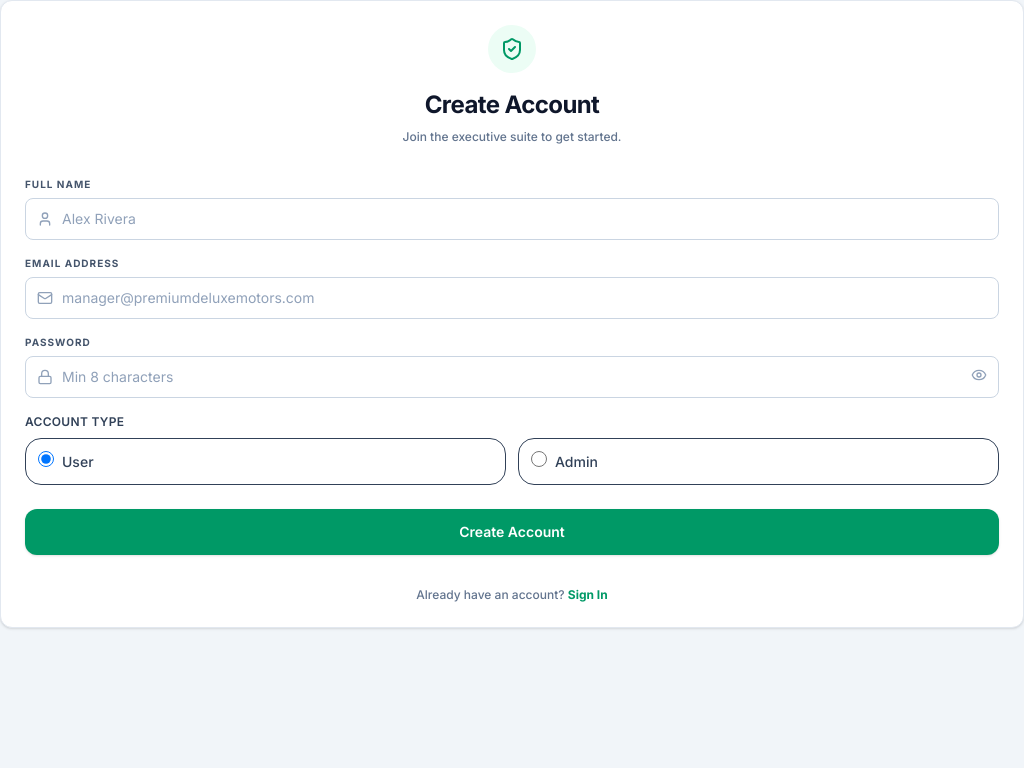
RegisterPage › shows an invalid email validation error
Type "Alice Johnson" into the field labelled "FULL NAME" at point(512, 219), box top-left (25, 198), bottom-right (999, 240)
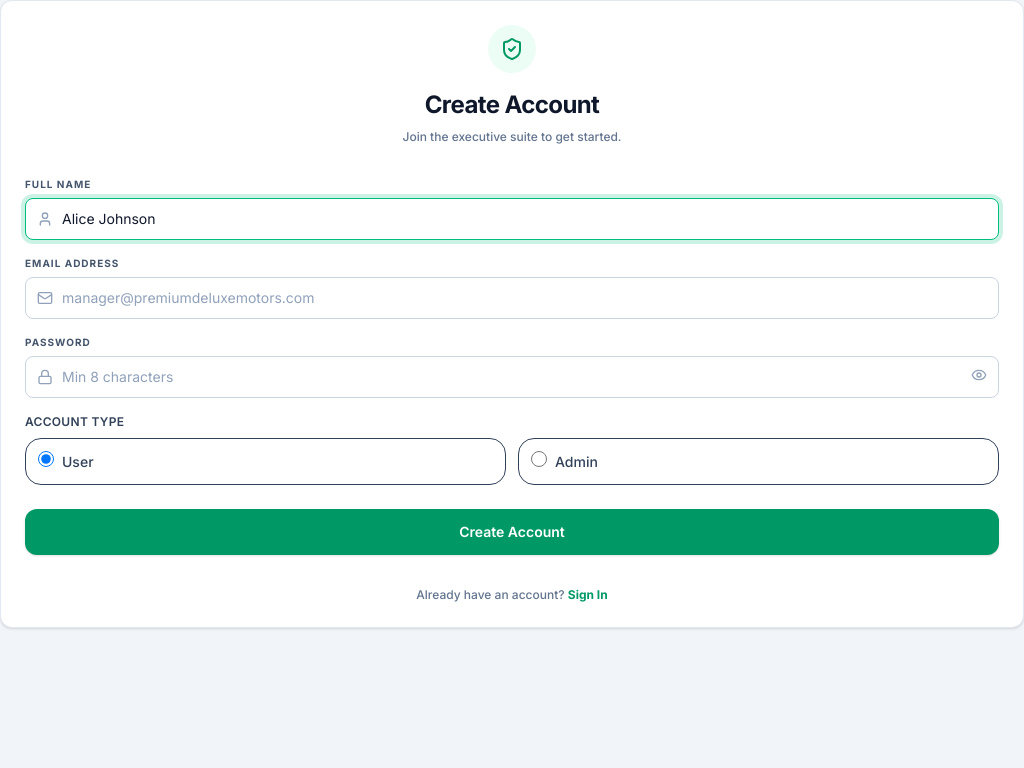
Type "not-an-email" into the field labelled "EMAIL ADDRESS" at point(512, 298), box top-left (25, 277), bottom-right (999, 319)
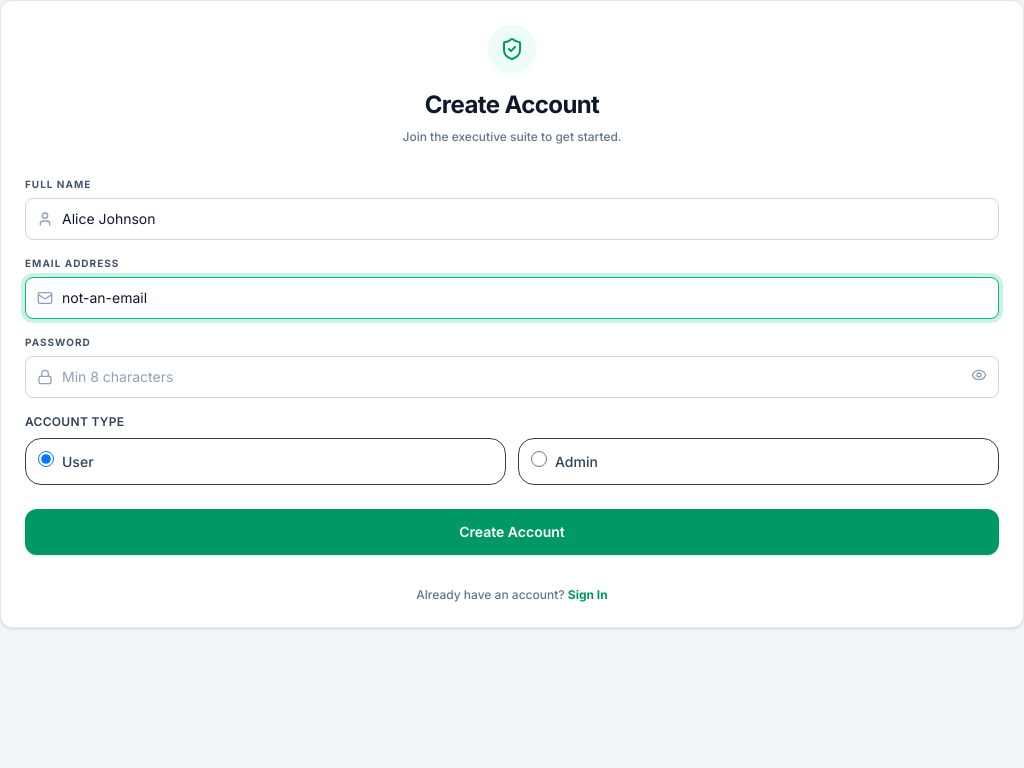
Type "strongpassword" into the password field labelled "PASSWORD" at point(512, 377), box top-left (25, 356), bottom-right (999, 398)
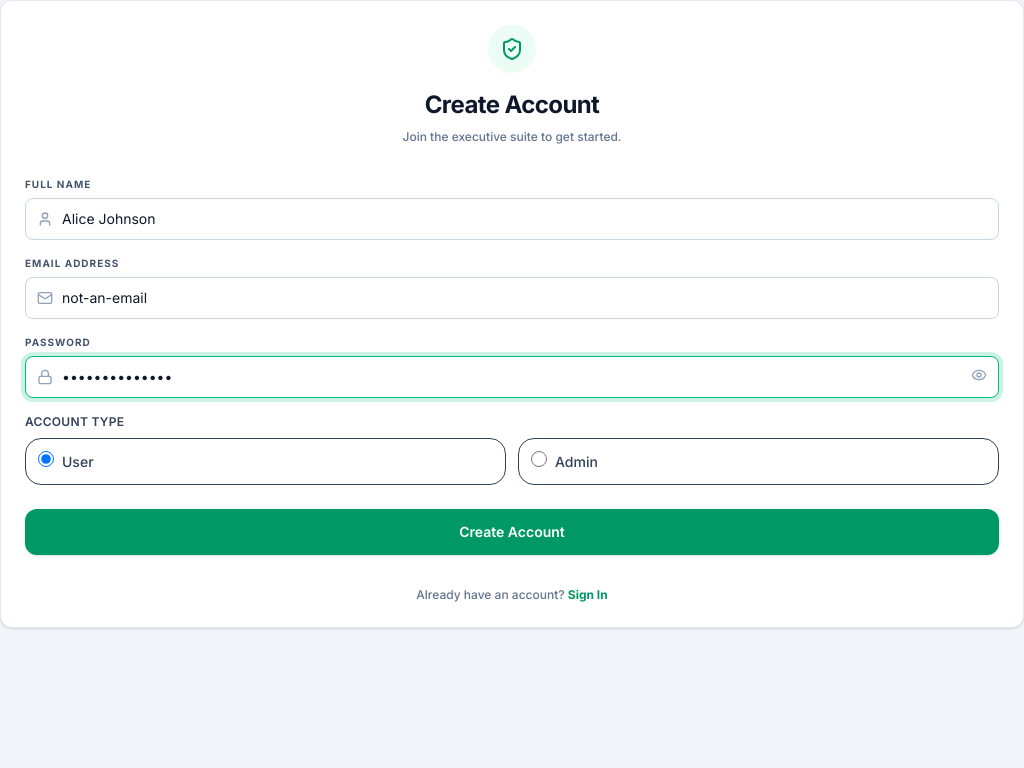
Click the button "Create Account" at point(512, 532), box top-left (25, 509), bottom-right (999, 555)
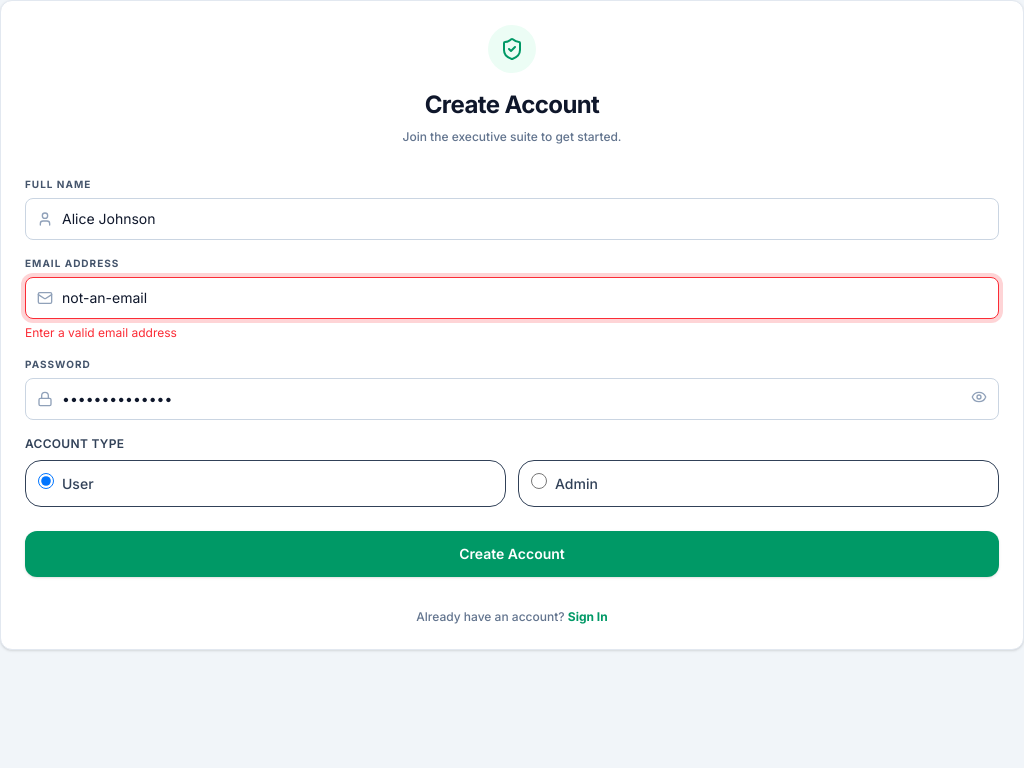
Expected: the text "Enter a valid email address" is shown, top-left (25, 325), bottom-right (177, 340)
